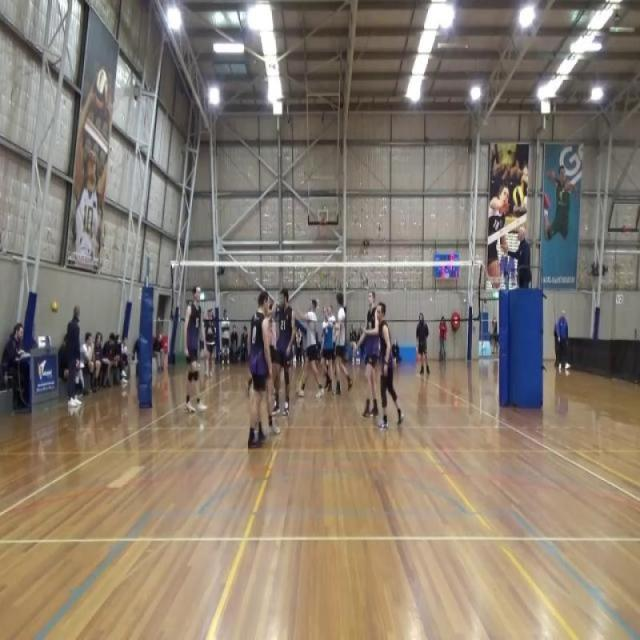volleyball: (94, 69, 110, 114), (512, 185, 525, 208), (50, 298, 59, 314)
